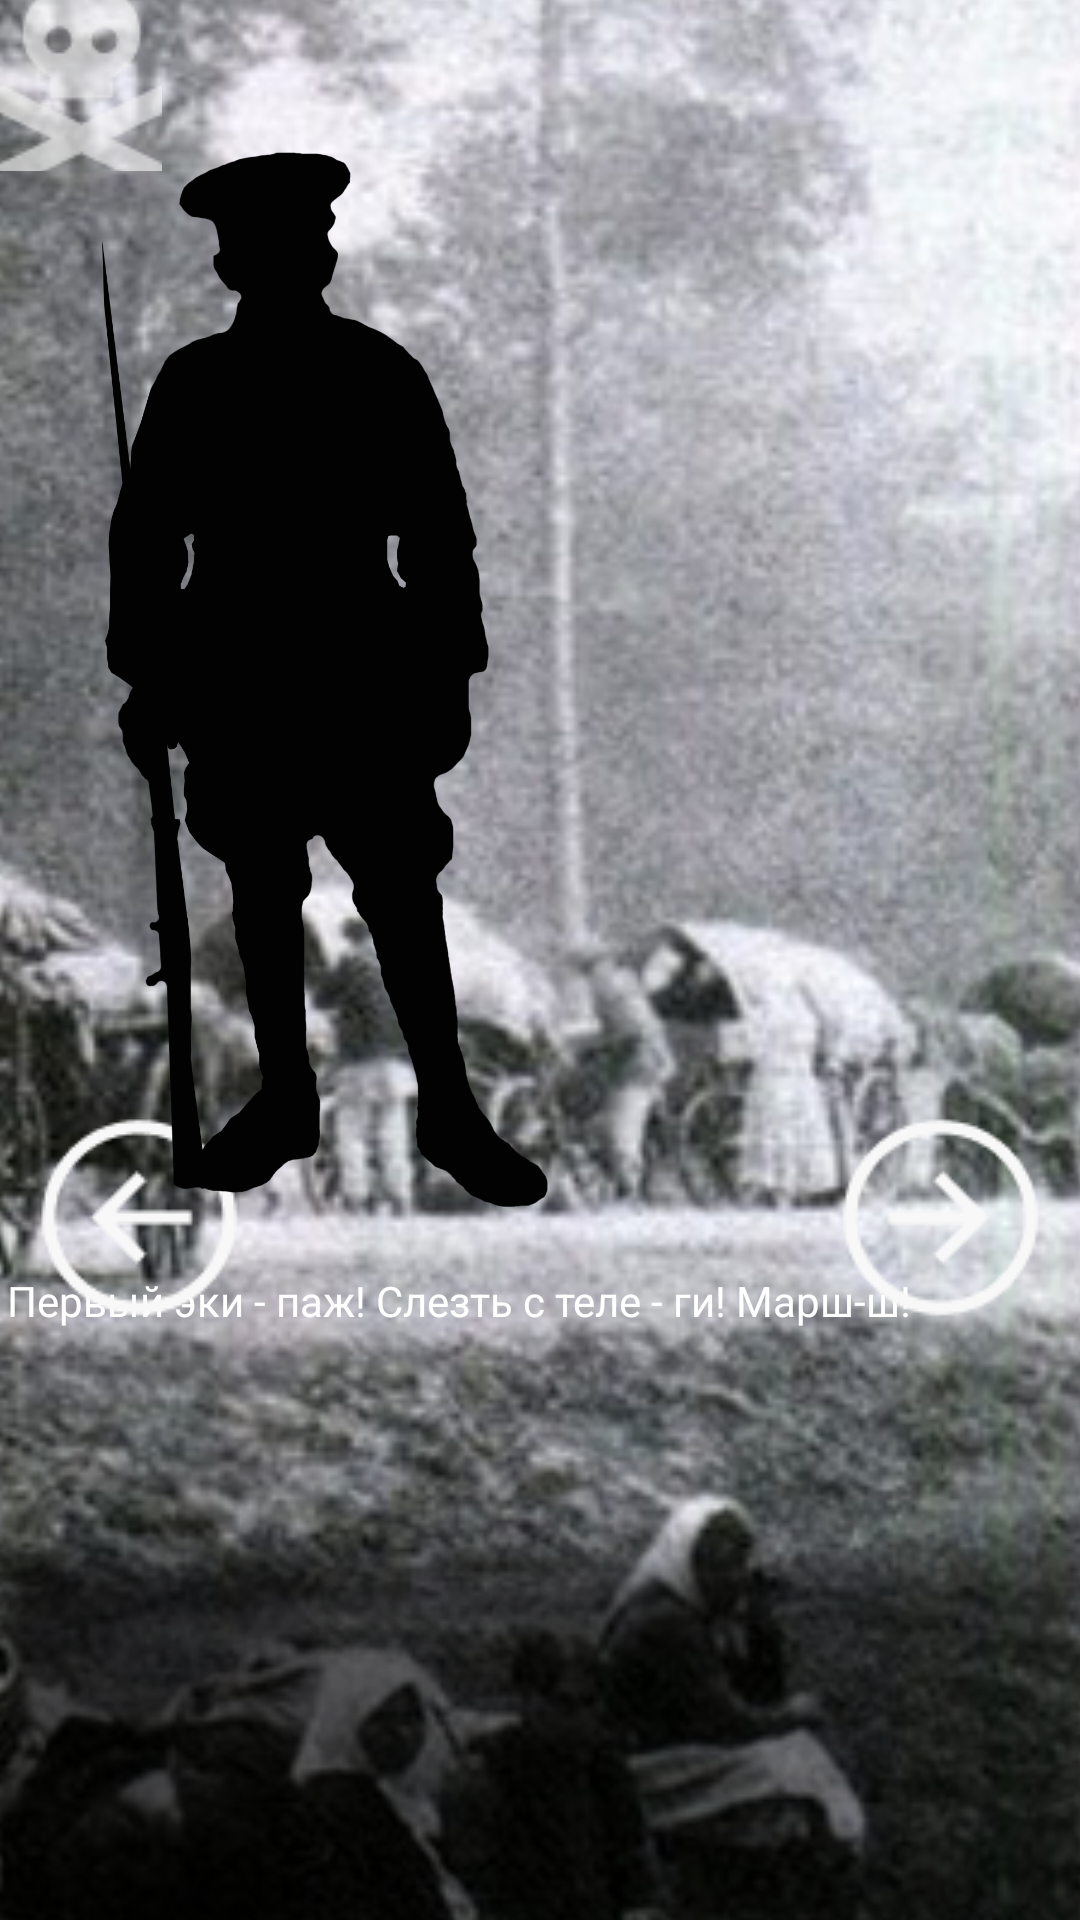

Icons on this 1080w x 1920h Android screen, each with the point to tap as [x,y]:
back: [139,1217]
forward: [940,1217]
